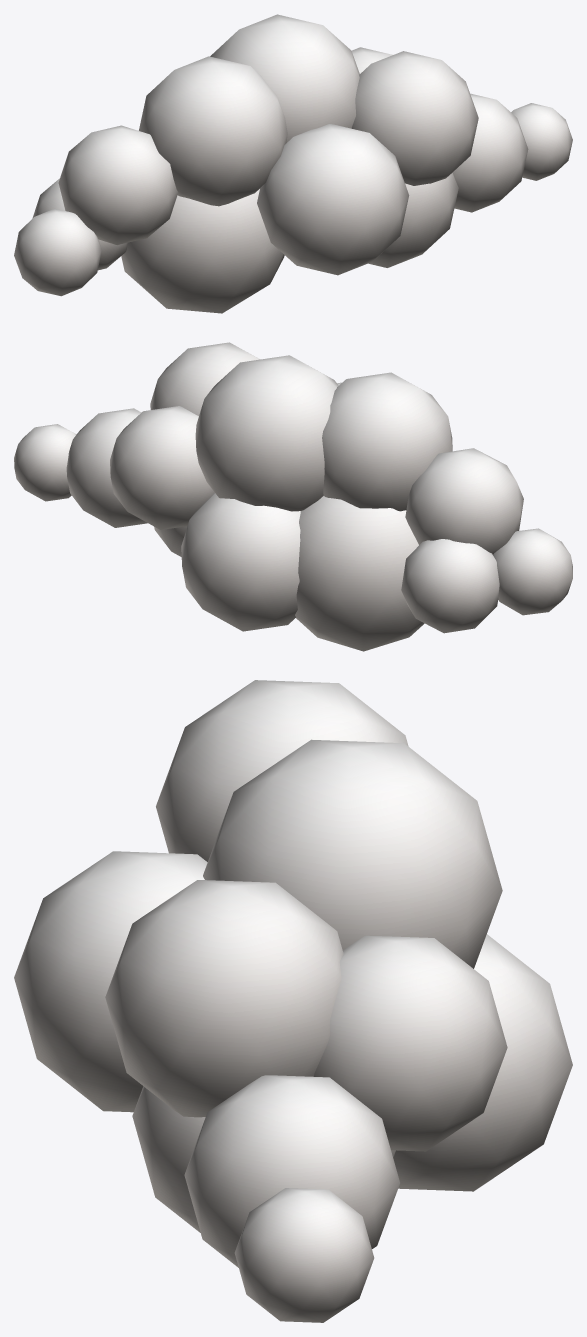
The model's file is Cloud_1A.fbx.
3 renders of one model, top to bottom at view 1: azimuth 30°, elevation 25°; view 2: azimuth 150°, elevation 25°; view 3: azimuth 270°, elevation 25°, orthographic. The views are drawn at different scales.
Visible parts, largest first — view 1: Cloud_1A; view 2: Cloud_1A; view 3: Cloud_1A.
Boxes of the visible parts, box(x1,y1,x2,y2) form: Cloud_1A: box(14, 14, 572, 313); Cloud_1A: box(14, 342, 572, 651); Cloud_1A: box(14, 680, 572, 1322).
Size of the model in its own units: 21.01 by 9.64 by 10.41.
